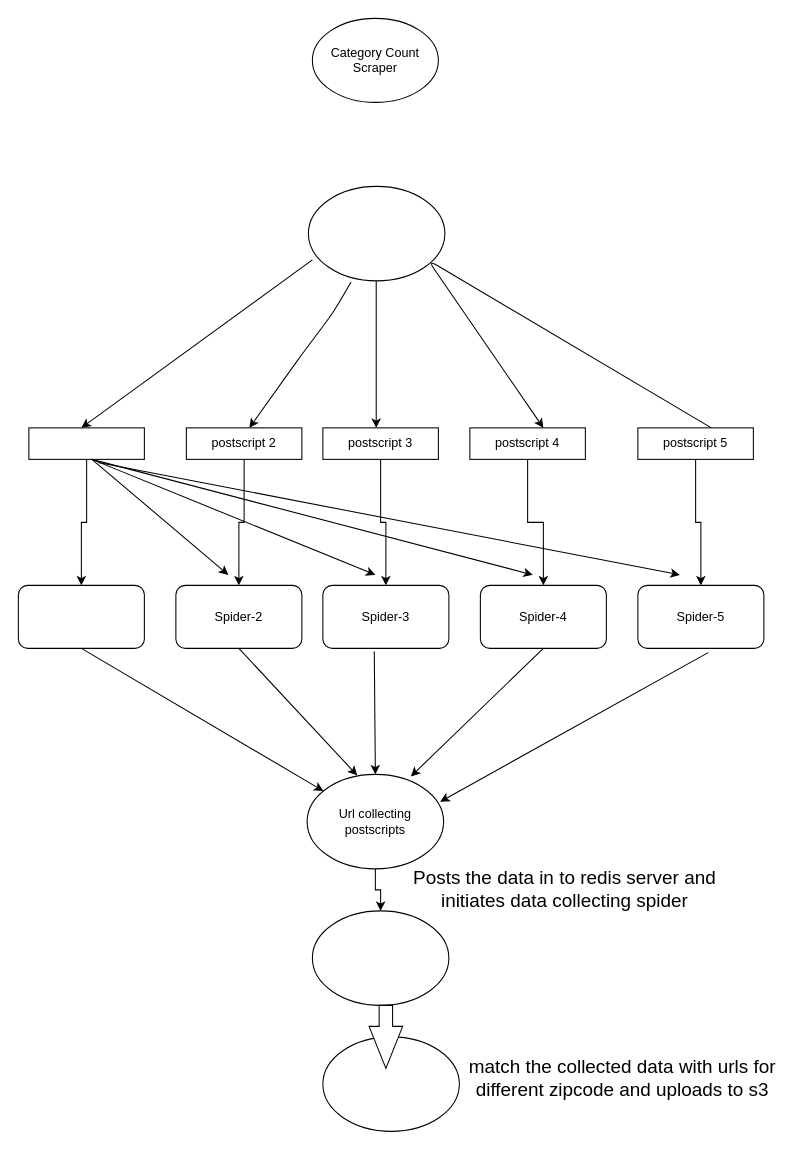
This 803x1150 diagram has some shape labels left out. Here are the shapes that lost their labels. From the top down, the box of each, then its label:
(307, 185, 445, 281): Scheduled Postscripts
(28, 427, 144, 459): postscript 1
(17, 584, 144, 648): Spider-1
(311, 910, 449, 1005): Data collecting spider
(322, 1036, 459, 1131): Final Postscript
